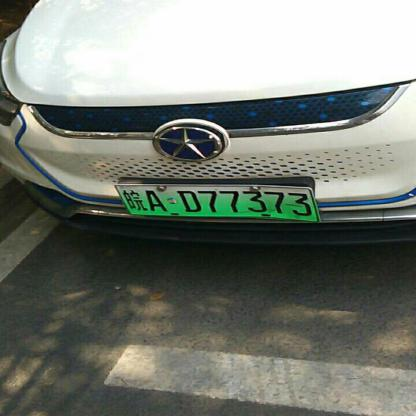lp: (116, 185, 320, 222)
